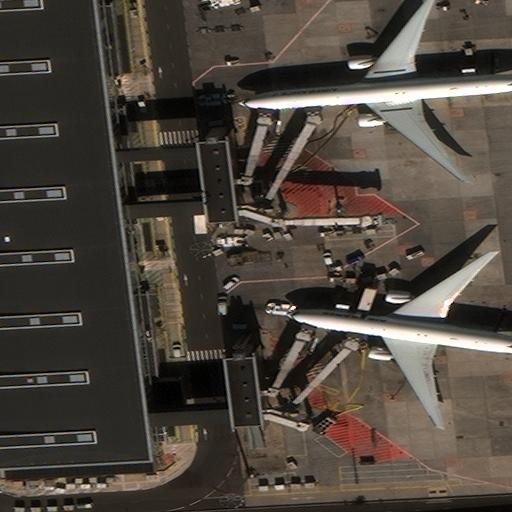Large Civil Transport: (237, 0, 512, 181), (287, 250, 512, 427)
